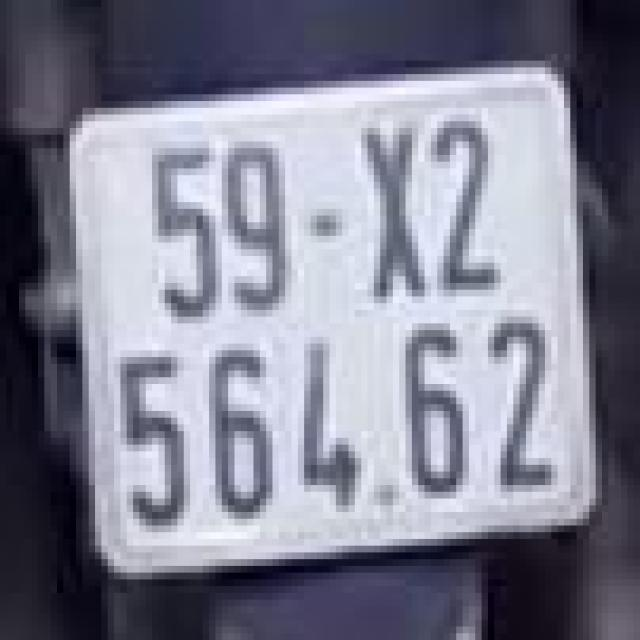2: (485, 313, 567, 509), (428, 111, 503, 293)
4: (288, 330, 364, 519)
5: (136, 141, 225, 337), (114, 340, 190, 542)
6: (390, 320, 484, 509), (200, 337, 282, 532)
9: (225, 131, 307, 320)
X: (355, 108, 431, 310)
